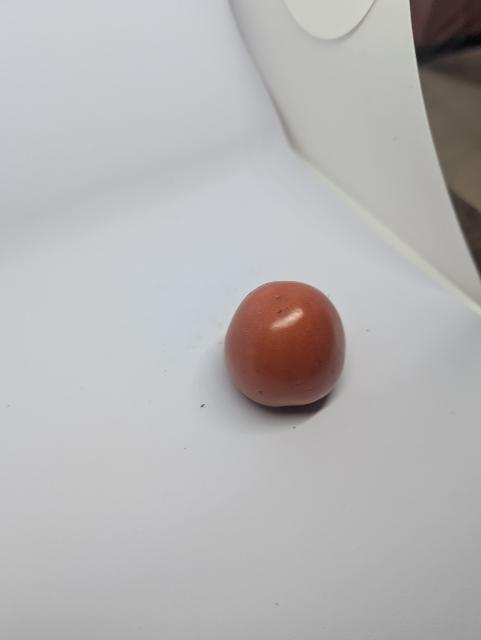red: (212, 273, 356, 431)
